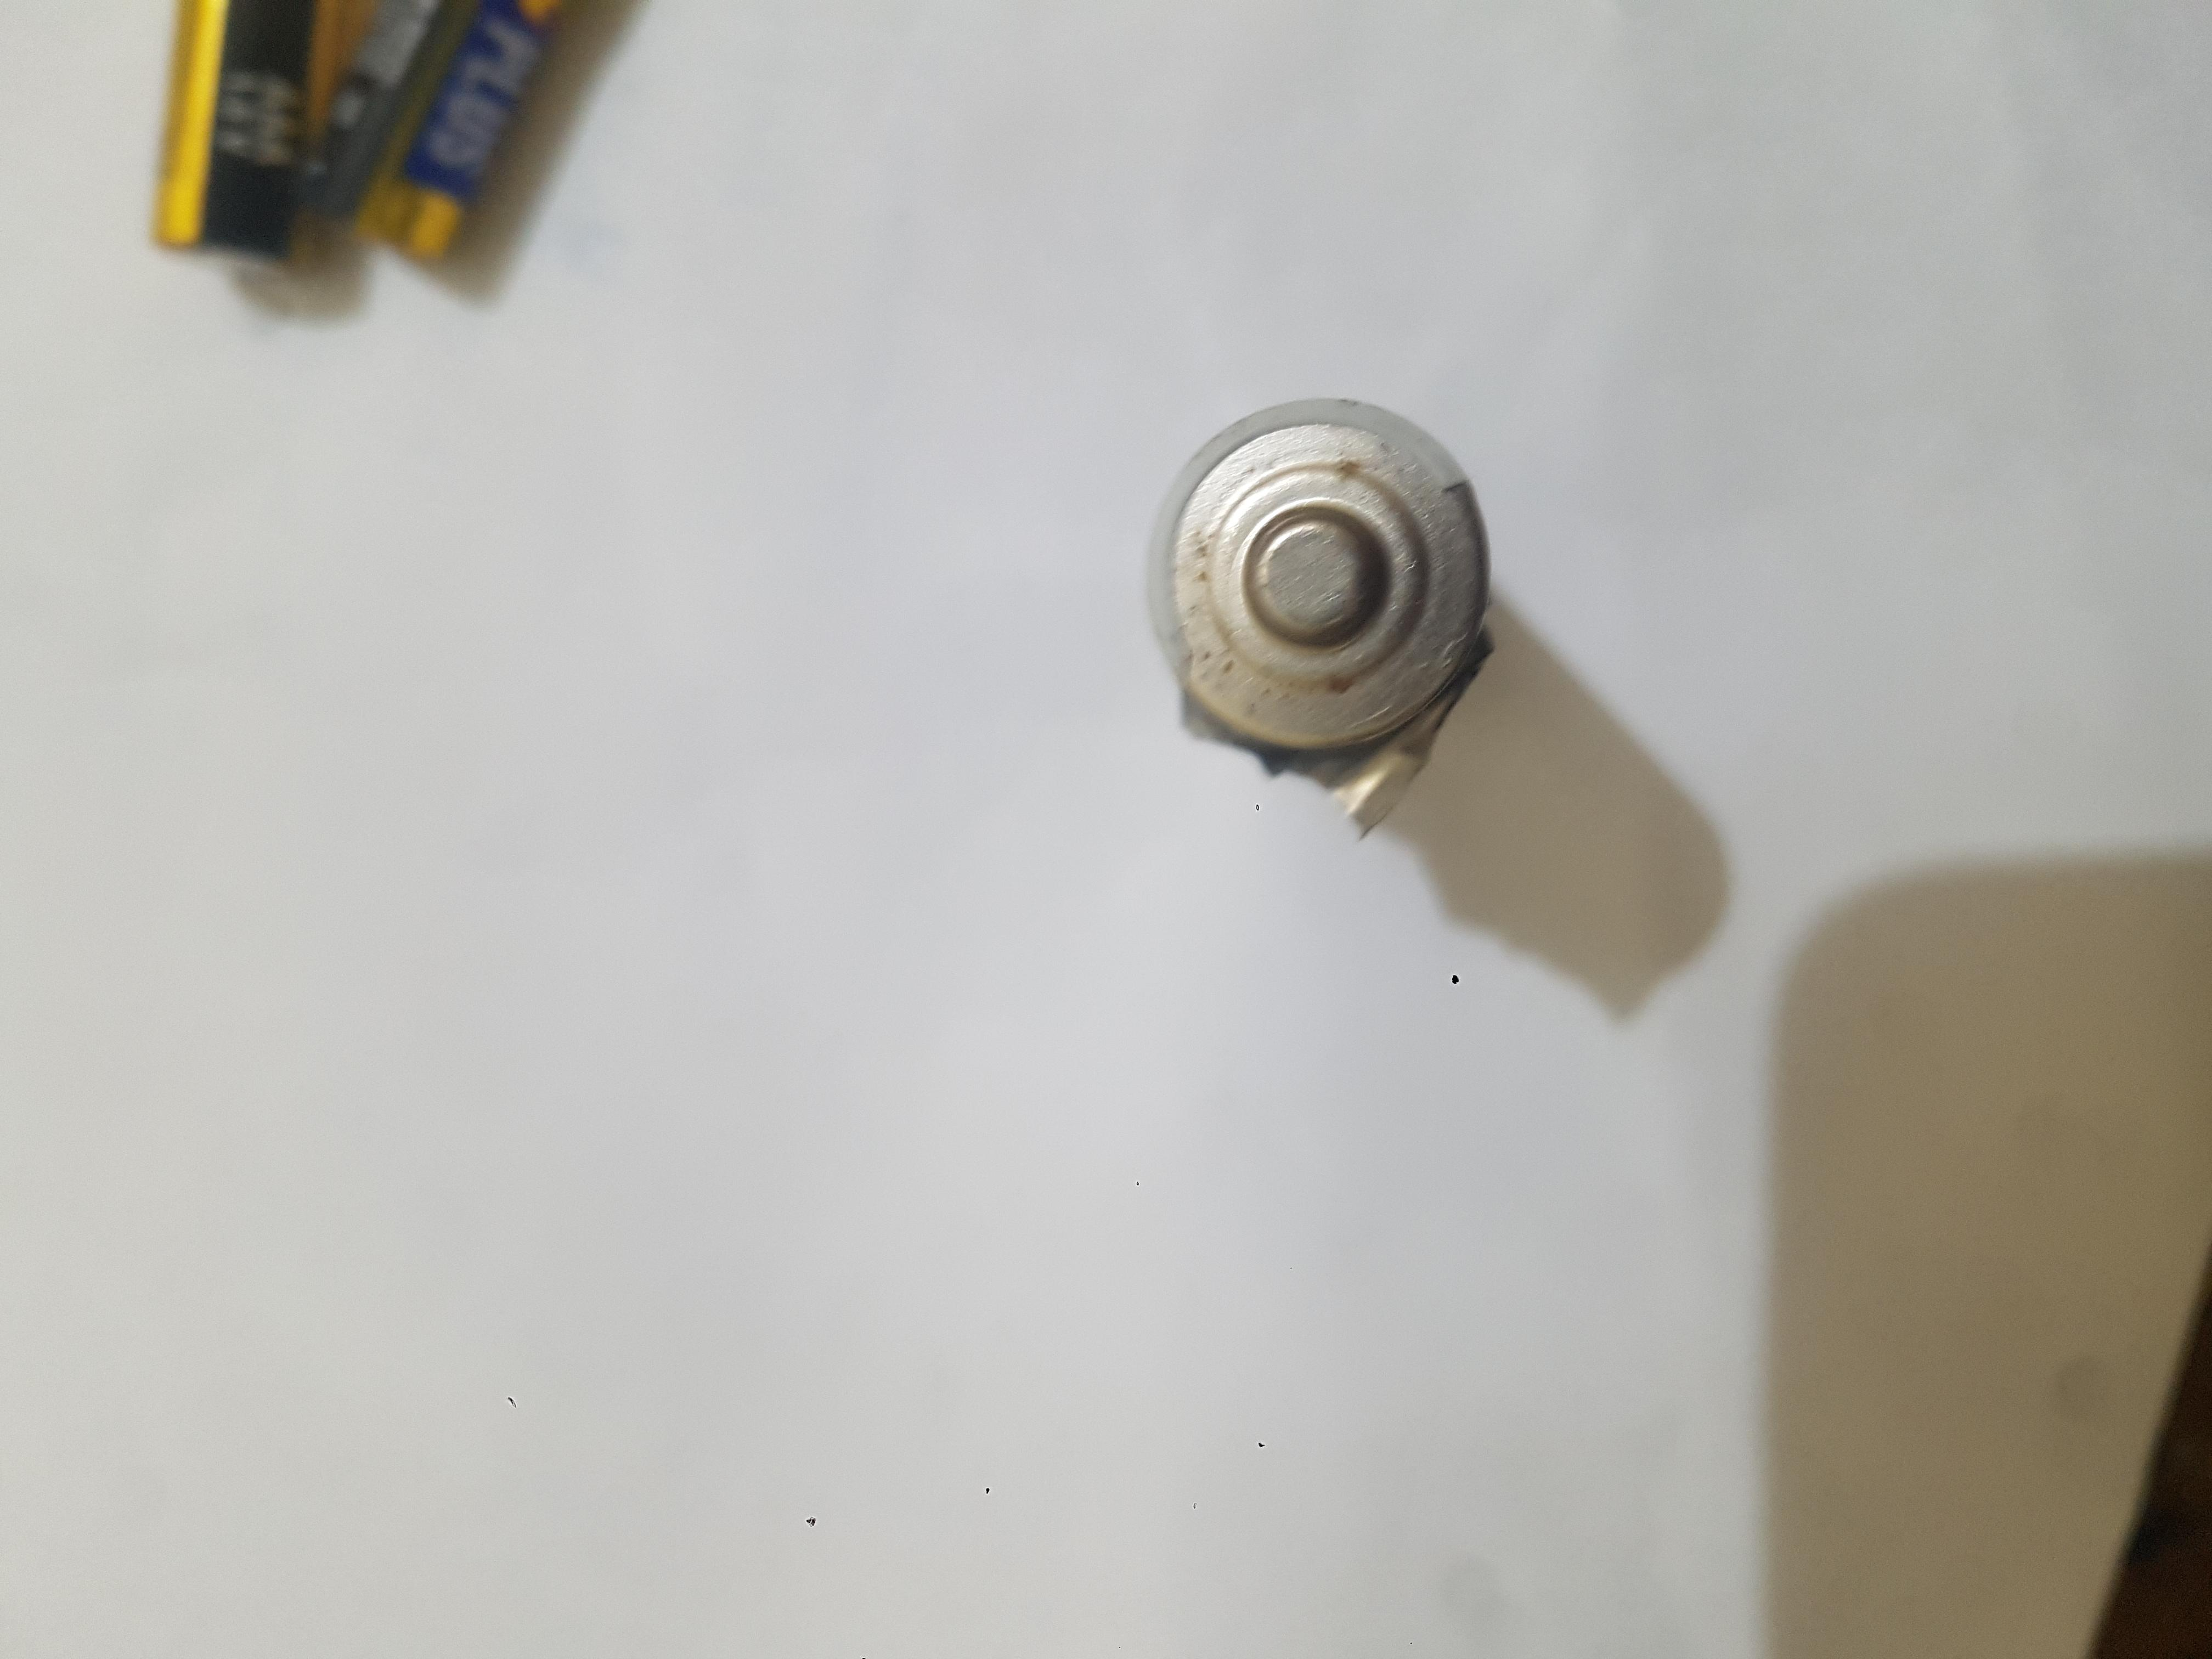battery: (707, 824, 1085, 1269)
